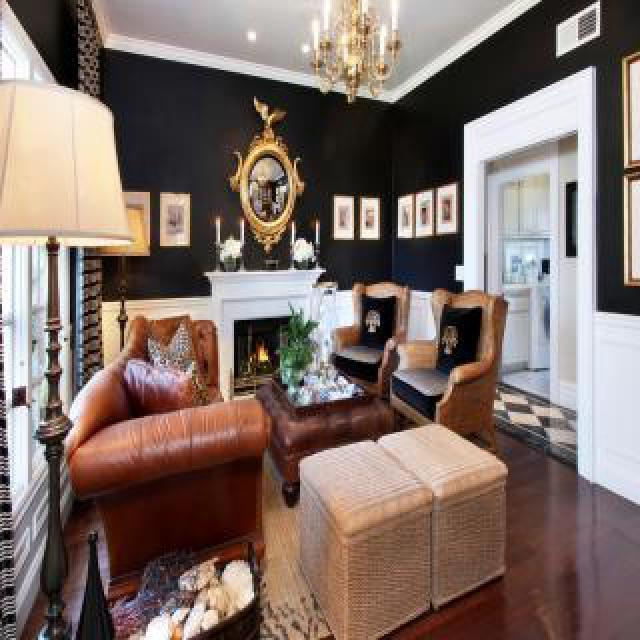Fire: (250, 332, 274, 372)
